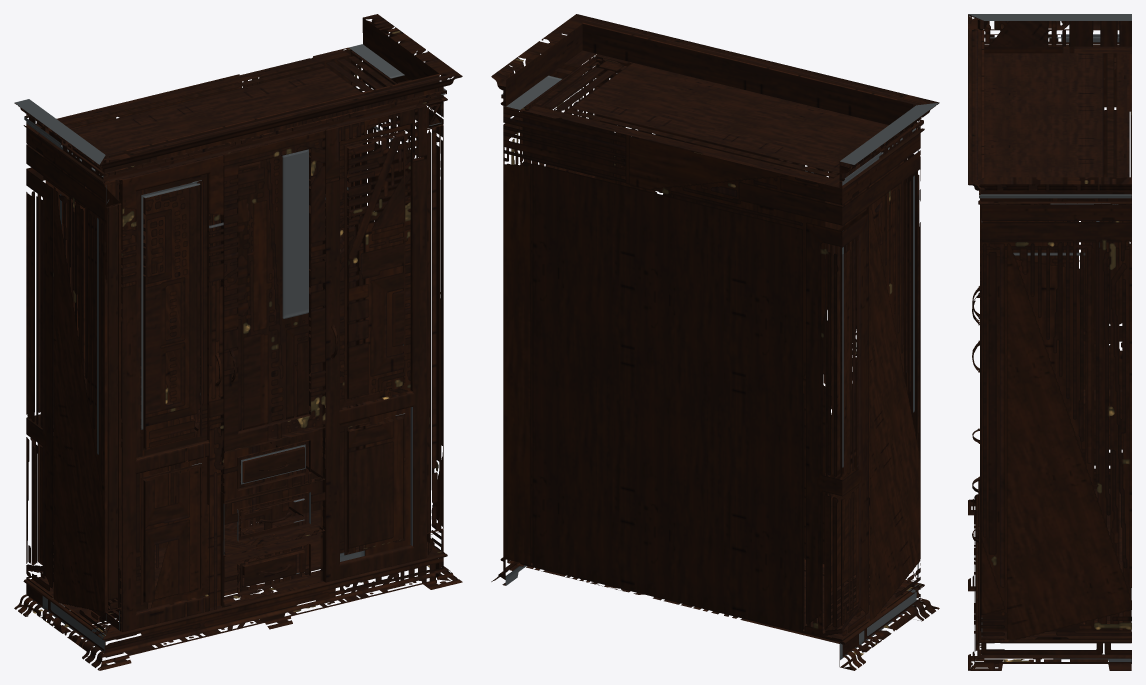
The model's file is raw_model.obj.
The picture shows the model from 3 angles, left to right: view 1: azimuth 30°, elevation 25°; view 2: azimuth 150°, elevation 25°; view 3: azimuth 270°, elevation 25°; orthographic projection. The views are drawn at different scales.
Parts seen in each view (by area): view 1: solid_002, solid_003; view 2: solid_002; view 3: solid_002, solid_001.
Boxes of the visible parts, x1,y1,x2,y2 form: solid_002: (14,14,462,670); solid_003: (238,149,308,431); solid_002: (491,14,939,670); solid_002: (968,14,1131,670); solid_001: (972,286,979,543).
Bounding box in the file's own units: 1.71 × 2.28 × 0.6965.
Materials: 1 (1 with a texture image).
